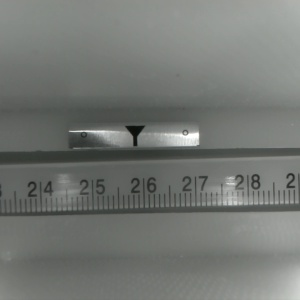2: (129, 177, 140, 193), (78, 179, 89, 195), (26, 181, 37, 197), (285, 172, 295, 189), (181, 176, 192, 191), (233, 174, 243, 190)
4: (42, 180, 53, 196)
5: (95, 179, 105, 195)
6: (146, 176, 156, 193)
7: (198, 176, 208, 191)
8: (250, 173, 260, 189)
finger: (122, 126, 145, 147)
